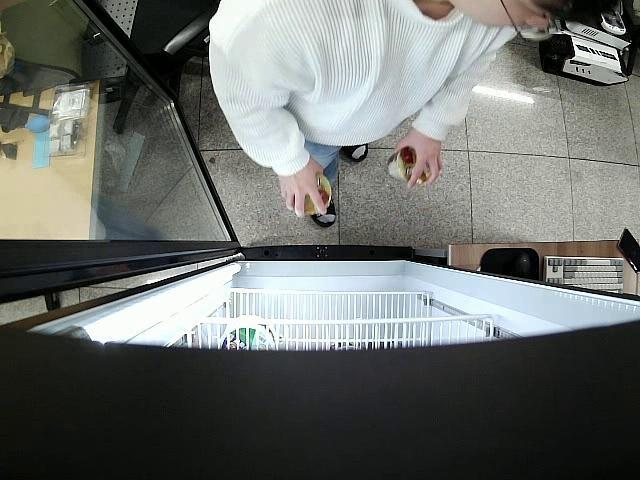04_chapagetti_S: (388, 146, 431, 188), (293, 172, 332, 213)
